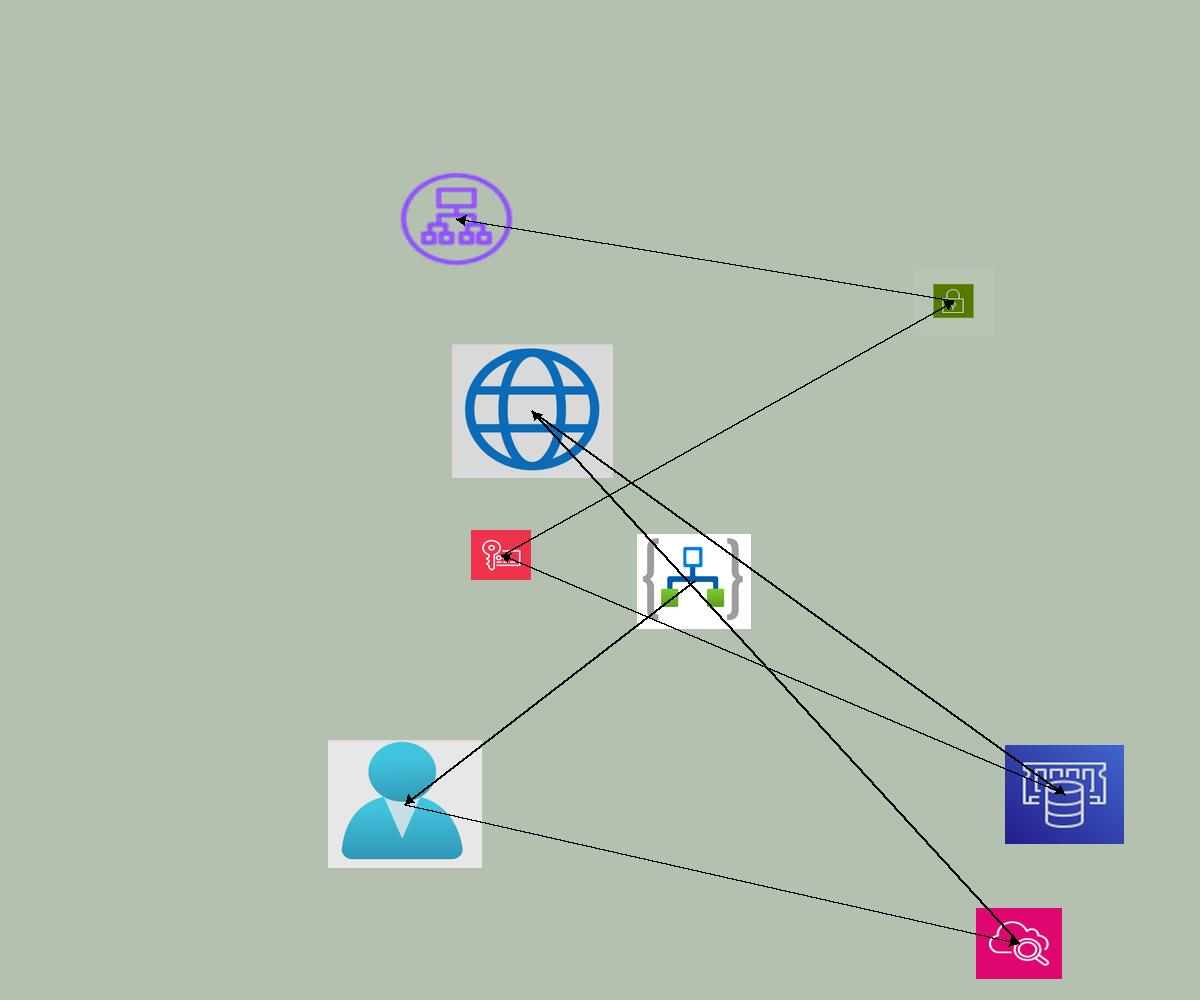AWS-CloudWatch: (976, 908, 1062, 979)
AWS-ElastiCache: (1005, 745, 1124, 844)
AWS-Key-Management-Service: (471, 530, 531, 580)
AWS-Public-subnet: (913, 267, 994, 335)
AWS-Res_Elastic-Load-Balancing_Application-Load-Balancer: (396, 169, 517, 269)
Azure_http: (452, 344, 613, 478)
Azure_integration-204-Logic-Apps: (637, 534, 751, 629)
Azure_users: (328, 740, 482, 868)
